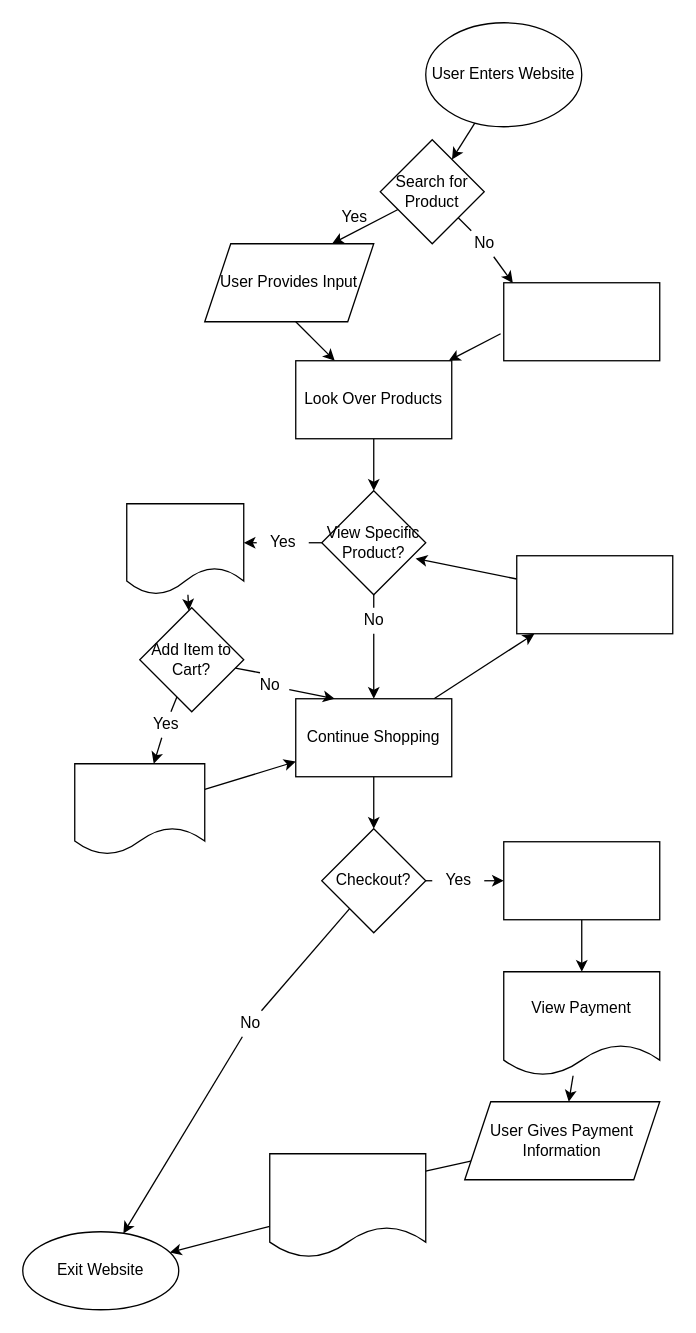
Image size: 696x1333. Some labels were removed from this diagram. The shapes that lost their labels are listed below. From the top down, each one's box as (x1, y1, x2, y2) in pixels, then its label:
(502, 281, 660, 361): Explore Products
(125, 502, 244, 595): Open Product Webpage
(515, 554, 673, 634): Search for New Product
(73, 762, 205, 855): Added to Cart Confirmation
(502, 840, 660, 920): View Cart
(268, 1152, 426, 1258): Order Confirmation + Send Email
